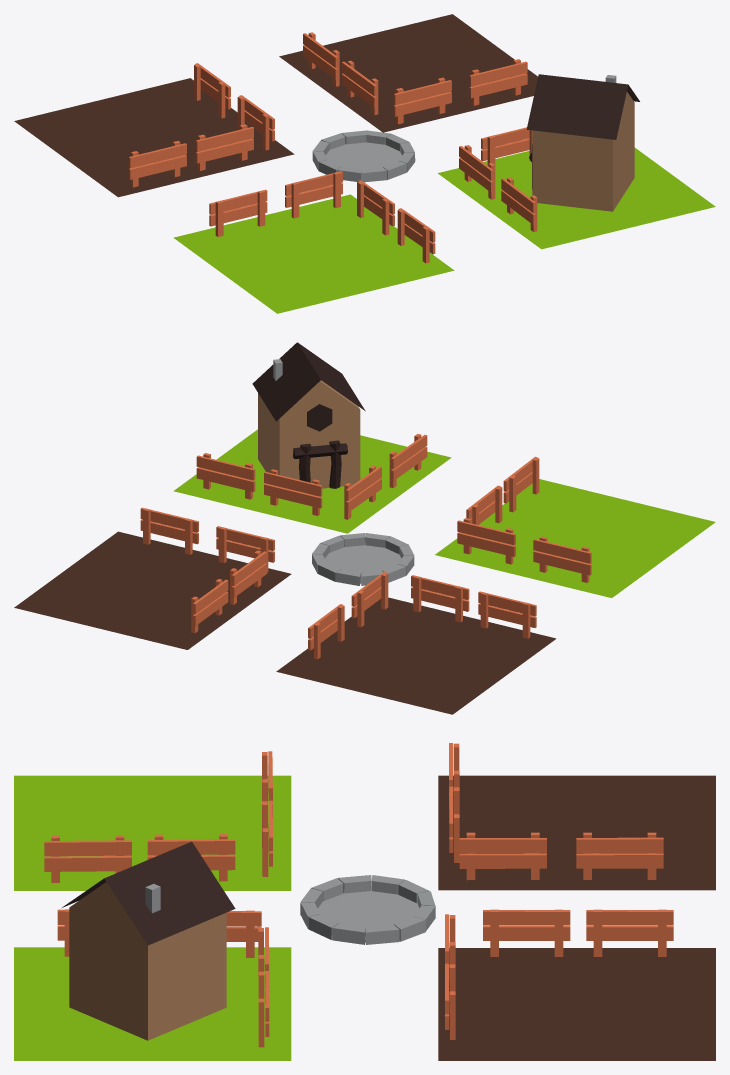
Rendered from farming.glb.
3 views of the same model, one above another, from view 1: azimuth 30°, elevation 25°; view 2: azimuth 150°, elevation 25°; view 3: azimuth 270°, elevation 25° (orthographic). The views are drawn at different scales.
Visible parts, largest first — view 1: Plane.003, Plane.002, Cube.201, Cube.202, Cube.012, Cube.040, Cube.007, Cube.001, Cube.006, Cube.013, Cylinder, Cube.010 (+8 smaller); view 2: Plane.003, Plane.002, Cube.201, Cube.202, Cube.007, Cube.011, Cube.013, Cube.012, Cube.006, Cube.010, Cube.040, Cylinder (+9 smaller); view 3: Plane.003, Plane.002, Cube.201, Cube.202, Cube.004, Cube.005, Cube.002, Cube.003, Cube.015, Cylinder, Cube.014, Cube.009 (+12 smaller).
Boxes of the visible parts, left/top/right/bottom form: Plane.003: left=14, top=14, right=537, bottom=197; Plane.002: left=173, top=147, right=715, bottom=313; Cube.201: left=532, top=92, right=634, bottom=211; Cube.202: left=526, top=74, right=639, bottom=139; Cube.012: left=209, top=189, right=267, bottom=236; Cube.040: left=469, top=59, right=527, bottom=105; Cube.007: left=128, top=141, right=186, bottom=187; Cube.001: left=393, top=77, right=451, bottom=124; Cube.006: left=195, top=124, right=253, bottom=170; Cube.013: left=285, top=171, right=342, bottom=218; Cylinder: left=325, top=142, right=401, bottom=180; Cube.010: left=481, top=127, right=532, bottom=165; Plane.003: left=14, top=531, right=556, bottom=714; Plane.002: left=173, top=429, right=715, bottom=597; Cube.201: left=258, top=380, right=360, bottom=488; Cube.202: left=252, top=342, right=365, bottom=421; Cube.007: left=478, top=591, right=536, bottom=638; Cube.011: left=196, top=453, right=255, bottom=499; Cube.013: left=457, top=518, right=515, bottom=564; Cube.012: left=533, top=536, right=591, bottom=582; Cube.006: left=411, top=575, right=469, bottom=622; Cube.010: left=264, top=469, right=322, bottom=515; Cube.040: left=140, top=507, right=198, bottom=554; Cylinder: left=325, top=542, right=401, bottom=583; Plane.003: left=438, top=775, right=715, bottom=1060; Plane.002: left=14, top=775, right=291, bottom=1060; Cube.201: left=69, top=882, right=226, bottom=1040; Cube.202: left=62, top=841, right=235, bottom=945; Cube.004: left=576, top=832, right=663, bottom=879; Cube.005: left=459, top=832, right=546, bottom=880; Cube.002: left=483, top=909, right=570, bottom=956; Cube.003: left=586, top=909, right=673, bottom=956; Cube.015: left=44, top=835, right=131, bottom=882; Cylinder: left=318, top=887, right=419, bottom=942; Cube.014: left=147, top=834, right=235, bottom=881; Cube.009: left=226, top=910, right=261, bottom=957.
Bounding box in the file's own units: 5.99 × 1.49 × 6.23.
